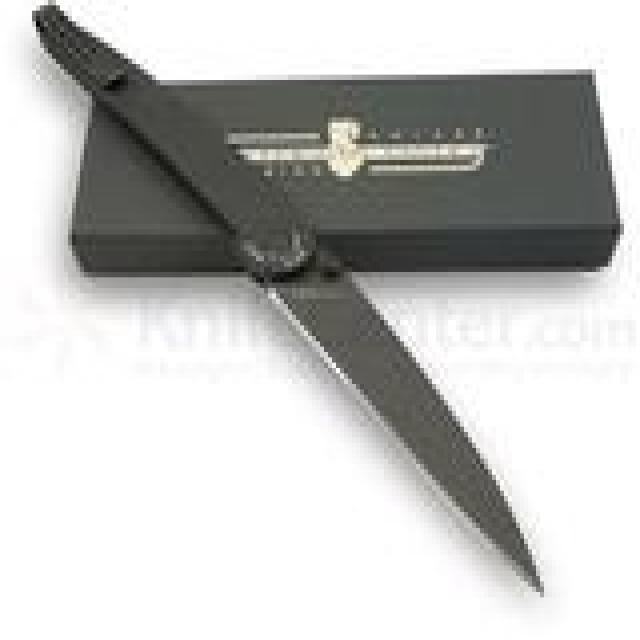Knife: (25, 0, 545, 597)
